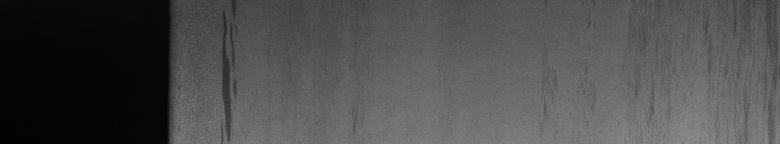hd: (216, 4, 237, 136)
